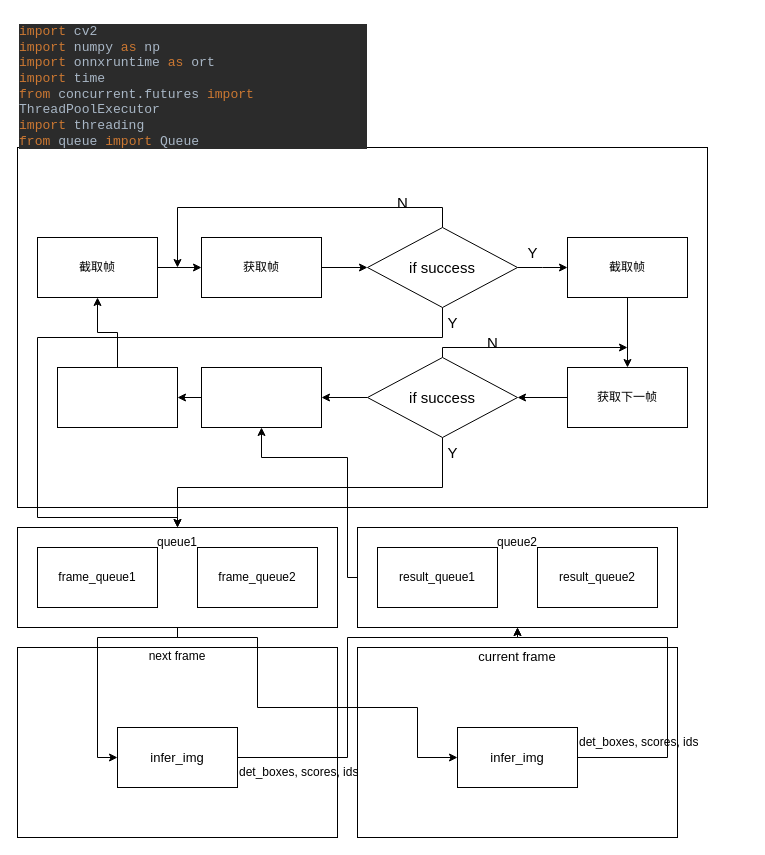
Image size: 765x855. Some labels were removed from this diagram. Each missing label, with the box of its shape:
schedule: (16, 146, 708, 508)
获取第一帧推理结果处理并输出: (200, 366, 322, 428)
获取第二帧推理结果处理并输出: (56, 366, 178, 428)
